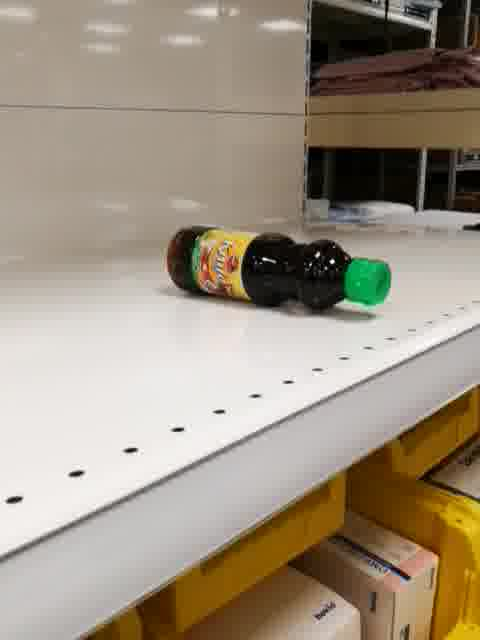cookingoil: (164, 222, 397, 315)
